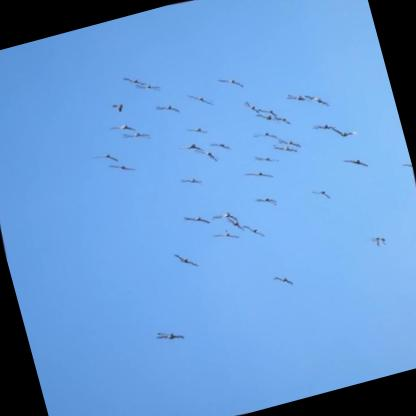bird: (155, 322, 190, 347), (246, 107, 282, 131), (118, 125, 153, 148), (183, 88, 217, 111), (170, 246, 201, 271), (213, 70, 246, 93), (190, 144, 222, 167), (268, 137, 300, 160), (132, 76, 163, 99), (302, 89, 333, 112), (105, 157, 138, 178), (274, 132, 304, 155), (250, 124, 281, 146), (242, 165, 276, 185), (250, 148, 282, 169), (152, 99, 183, 120), (339, 152, 370, 173), (181, 209, 211, 230), (210, 207, 241, 227), (206, 134, 234, 155), (177, 138, 206, 158), (90, 149, 120, 168), (107, 118, 137, 137), (251, 190, 278, 211), (177, 172, 204, 192), (120, 71, 148, 90), (332, 121, 360, 140), (310, 117, 336, 137), (269, 271, 296, 290), (211, 226, 241, 243), (182, 121, 210, 139), (223, 213, 247, 234), (243, 220, 268, 240), (309, 184, 332, 204), (241, 97, 263, 117), (284, 89, 308, 107), (258, 102, 282, 119), (269, 114, 292, 128), (108, 101, 126, 116), (367, 234, 383, 249), (374, 234, 389, 248)
